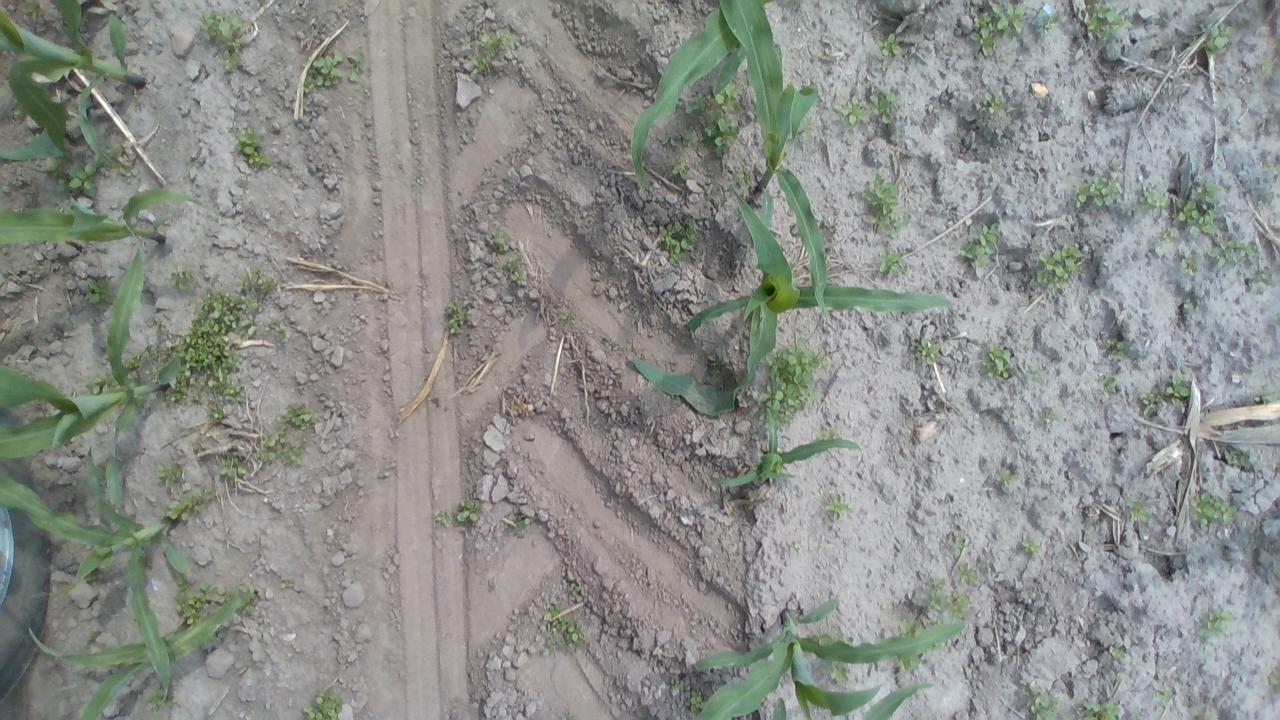Maize: (633, 183, 959, 421), (0, 448, 193, 704), (1, 238, 176, 511), (720, 0, 830, 324), (694, 595, 966, 720), (22, 596, 254, 720), (628, 0, 768, 191), (0, 0, 149, 167), (0, 184, 221, 250), (707, 406, 865, 492), (770, 696, 789, 718)
Weeds: (159, 267, 275, 415), (760, 338, 830, 435), (196, 8, 251, 73), (970, 3, 1024, 56), (1175, 179, 1221, 237), (862, 172, 902, 232), (540, 602, 582, 656), (1071, 164, 1121, 209), (658, 218, 702, 266), (230, 126, 274, 172), (1037, 242, 1081, 287), (1084, 2, 1130, 42), (960, 223, 1000, 268), (701, 110, 740, 156), (123, 344, 164, 386), (52, 156, 96, 195), (1210, 237, 1262, 269), (173, 574, 205, 625), (1192, 492, 1238, 526), (168, 489, 216, 521), (304, 52, 341, 92), (283, 402, 318, 441), (1024, 684, 1060, 720), (436, 500, 482, 528), (302, 690, 344, 720), (1140, 182, 1172, 221), (1196, 606, 1235, 638), (982, 342, 1012, 380), (258, 426, 288, 464), (837, 96, 870, 128), (479, 30, 515, 56), (872, 89, 897, 125), (926, 578, 952, 612), (146, 684, 180, 710), (1082, 697, 1120, 720), (880, 248, 910, 277), (667, 128, 701, 152), (715, 82, 742, 112), (85, 276, 112, 306), (915, 335, 940, 367), (444, 300, 468, 333), (1166, 374, 1190, 406), (168, 264, 195, 292), (1205, 26, 1234, 52), (878, 32, 904, 60), (102, 143, 128, 171), (218, 454, 248, 478), (824, 496, 850, 522), (944, 588, 970, 614), (981, 93, 1008, 118), (508, 509, 534, 534), (702, 358, 728, 382), (1158, 683, 1182, 709), (284, 439, 308, 464), (1180, 250, 1203, 276), (86, 373, 114, 394), (1250, 268, 1279, 288), (794, 115, 814, 144), (504, 255, 524, 284), (1127, 498, 1150, 523), (239, 587, 262, 612), (1140, 390, 1163, 414), (1255, 52, 1280, 74), (344, 55, 366, 80), (686, 92, 711, 114), (956, 563, 979, 586), (490, 232, 514, 254), (158, 463, 182, 484), (896, 653, 922, 671), (19, 2, 40, 24), (1039, 13, 1062, 33), (272, 315, 288, 343), (1020, 534, 1041, 555), (469, 55, 491, 75), (1106, 338, 1126, 360), (1106, 641, 1126, 663), (688, 689, 706, 713), (950, 533, 967, 558), (829, 662, 850, 682), (900, 618, 921, 638), (207, 586, 230, 604), (1042, 412, 1062, 432), (208, 404, 230, 422), (1229, 448, 1249, 467), (998, 468, 1018, 487), (736, 167, 754, 188), (1256, 386, 1276, 404), (670, 161, 689, 179), (138, 552, 152, 576), (560, 308, 578, 326), (277, 573, 296, 589), (821, 426, 841, 441), (1268, 673, 1280, 698), (1159, 228, 1175, 244), (567, 581, 581, 599), (1102, 374, 1116, 392), (836, 630, 854, 643), (813, 634, 832, 646), (52, 588, 68, 602), (11, 104, 27, 118), (84, 628, 95, 648), (1196, 709, 1216, 720), (86, 572, 104, 584), (1028, 368, 1043, 382), (1128, 709, 1147, 720), (603, 335, 616, 351), (668, 676, 682, 690), (412, 174, 424, 188)
